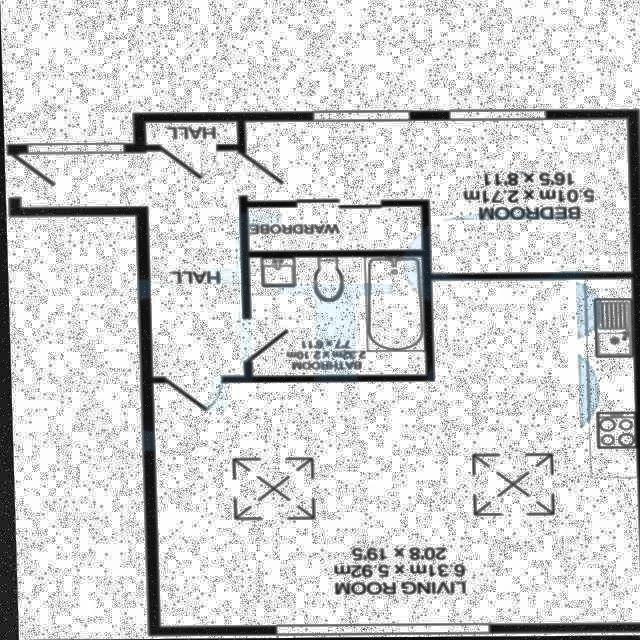room: (150, 279, 638, 627), (244, 119, 630, 277), (18, 145, 243, 386), (248, 257, 424, 377), (246, 207, 422, 252), (144, 121, 238, 145)
